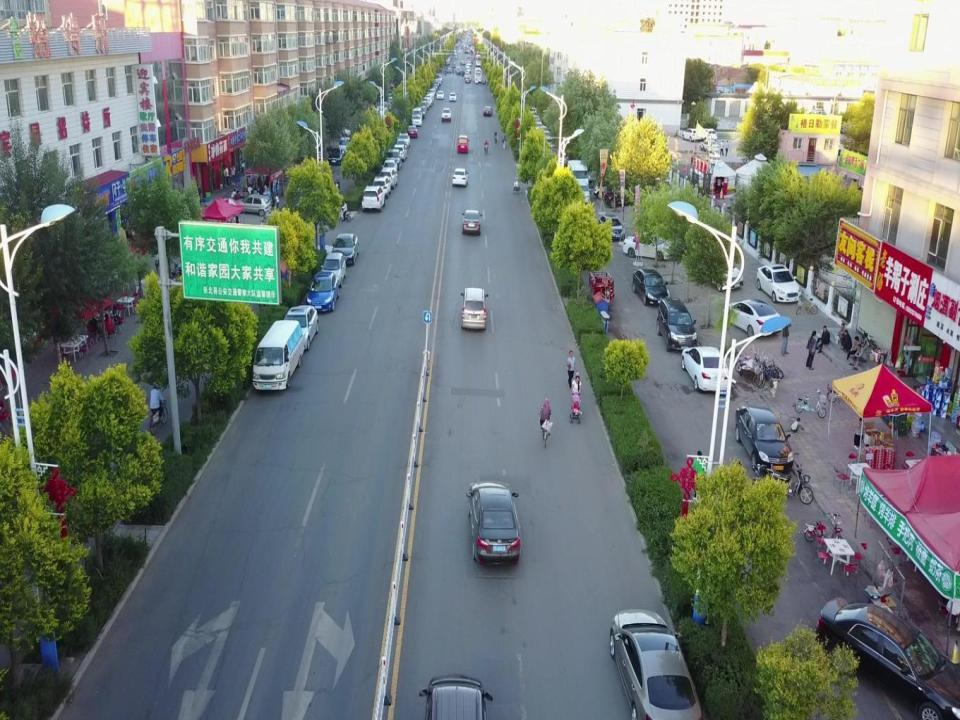bus: (474, 67, 482, 83)
car: (815, 596, 960, 719), (610, 610, 702, 720), (467, 480, 521, 566), (734, 403, 794, 472), (417, 676, 495, 720), (657, 297, 698, 353), (681, 346, 729, 392), (726, 299, 782, 336), (757, 263, 802, 302), (700, 254, 746, 290), (282, 304, 318, 348), (632, 267, 670, 306), (624, 231, 674, 260), (306, 273, 342, 311), (460, 288, 488, 330), (330, 232, 362, 266), (321, 252, 346, 286), (361, 185, 386, 212), (238, 194, 270, 214), (603, 186, 632, 207), (599, 214, 622, 240), (257, 213, 282, 236), (461, 210, 483, 235), (594, 178, 616, 198), (373, 176, 391, 197), (379, 170, 397, 190), (386, 148, 402, 169), (452, 166, 468, 185), (699, 138, 718, 154), (681, 127, 702, 141), (382, 160, 398, 177), (329, 147, 344, 165), (394, 143, 406, 161), (399, 132, 411, 148), (557, 150, 568, 166), (396, 140, 407, 154), (702, 127, 716, 138), (412, 114, 422, 127), (408, 126, 418, 138), (442, 108, 450, 121), (548, 144, 557, 155), (436, 90, 444, 101), (449, 91, 457, 102), (484, 105, 492, 116), (540, 125, 549, 134), (425, 98, 433, 108), (420, 102, 428, 112), (529, 107, 537, 117), (428, 88, 435, 99), (544, 137, 553, 145), (420, 108, 426, 119), (534, 121, 541, 130), (534, 118, 542, 125), (542, 130, 550, 137), (475, 59, 481, 67), (437, 74, 443, 82), (423, 102, 429, 110), (532, 115, 540, 121), (436, 78, 441, 87), (464, 71, 470, 78), (456, 70, 464, 75), (431, 88, 436, 96), (466, 74, 472, 80), (447, 66, 452, 73), (456, 65, 460, 73), (465, 77, 470, 83), (456, 68, 461, 74), (433, 84, 437, 90), (467, 61, 471, 66), (465, 64, 469, 68), (467, 67, 470, 71)
truck: (338, 136, 353, 154)
van: (254, 321, 304, 390), (568, 159, 590, 191), (575, 182, 591, 205), (412, 106, 423, 122), (426, 94, 434, 106), (434, 80, 440, 88)
